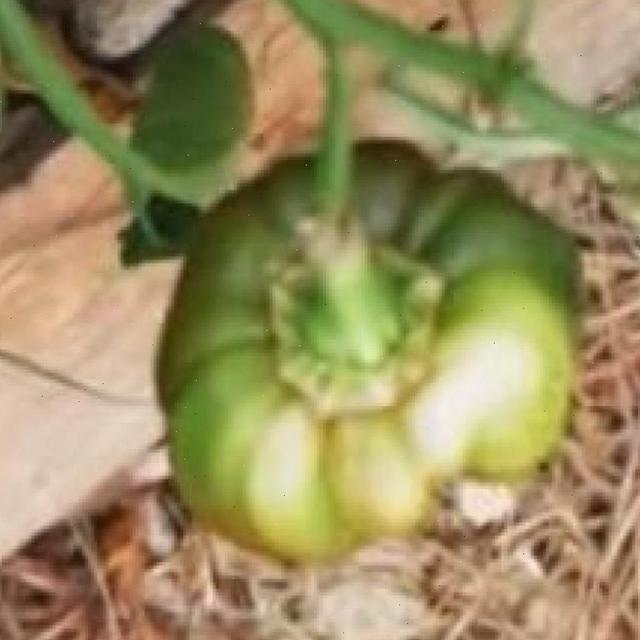Sunscald Fruit: (163, 225, 365, 354)
